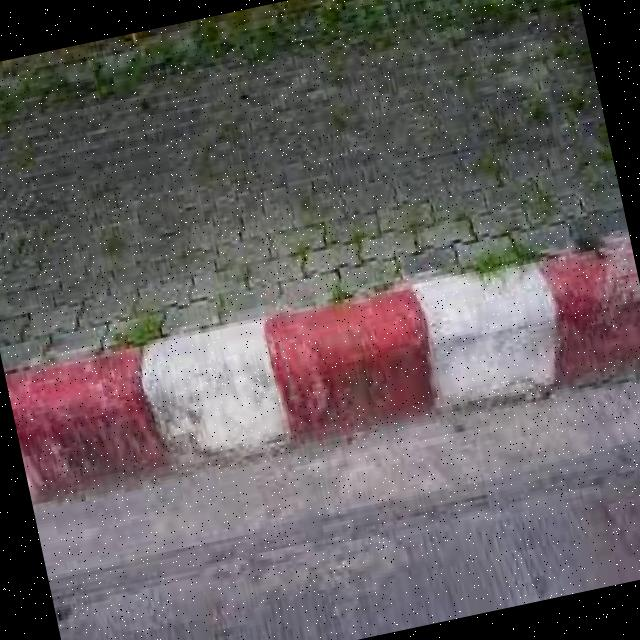curb: (6, 243, 640, 510)
